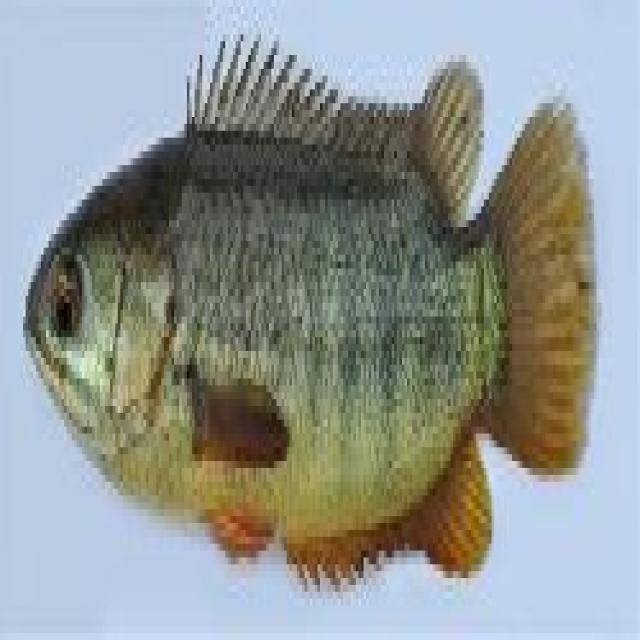Climbing-Perch: (12, 13, 620, 596)
